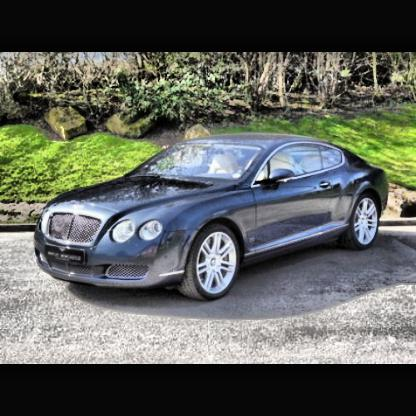Bentley Continental GT Coupe 2007: (36, 134, 391, 302)
